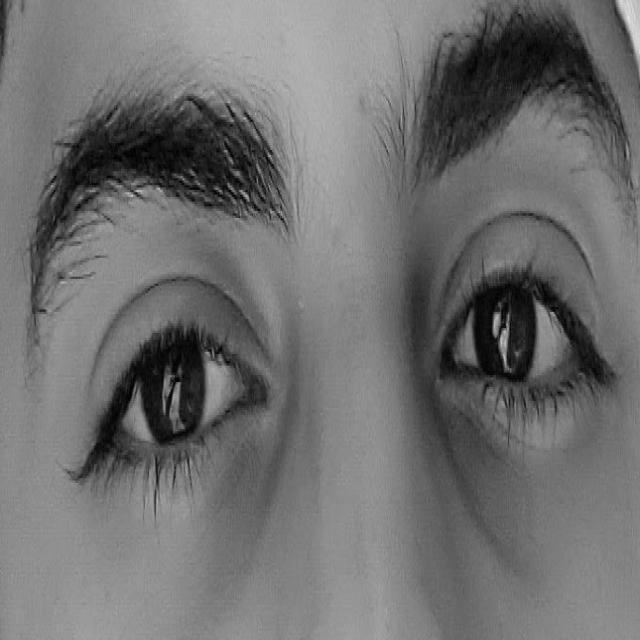real: (42, 136, 626, 579)
